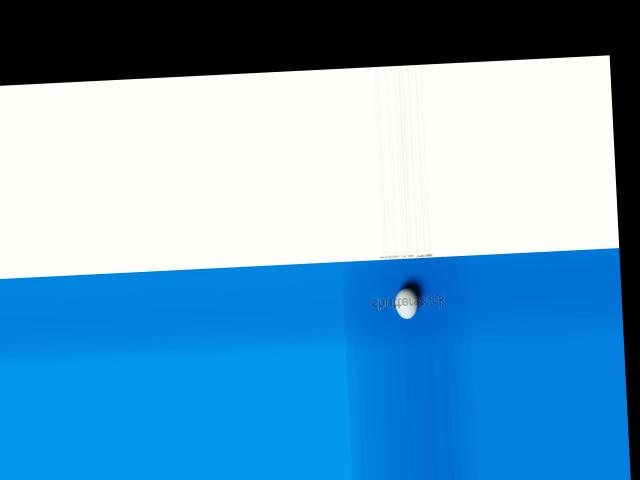egg: (395, 287, 418, 320)
